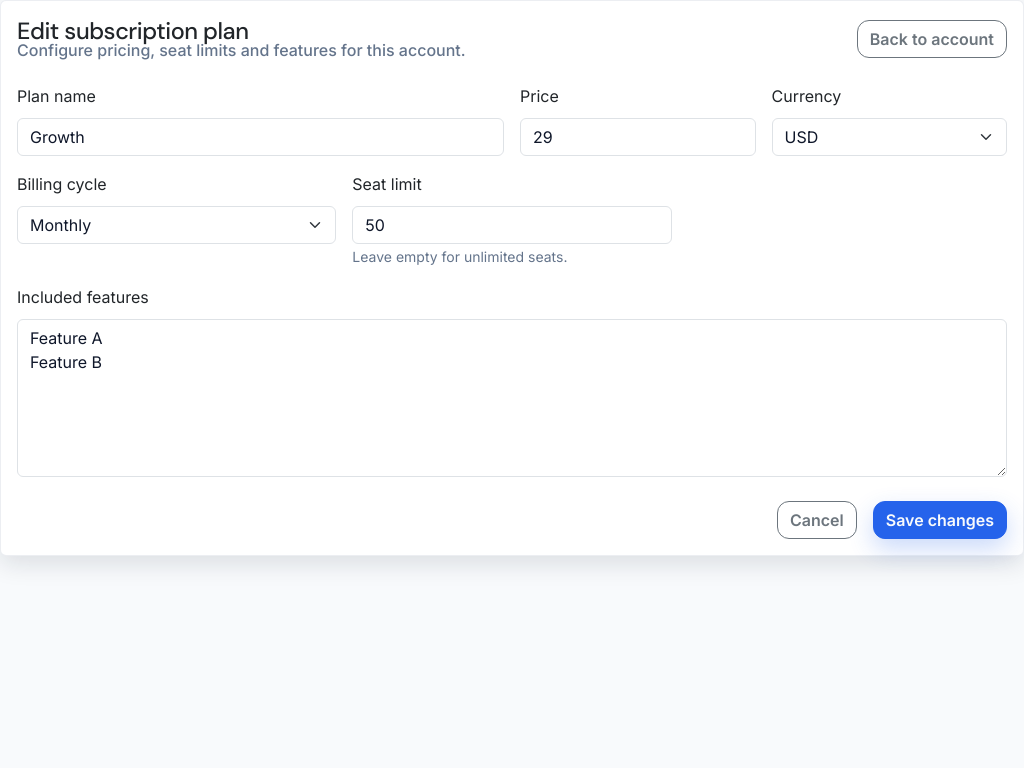
Test: AdminPlanEditorPage › loads plan details and submits updates
Expected: the field showing "Growth" is shown, [17,118,504,156]
Replace the text in the number field labelled "Price" with "49" at (638, 137), box [520,118,756,156]
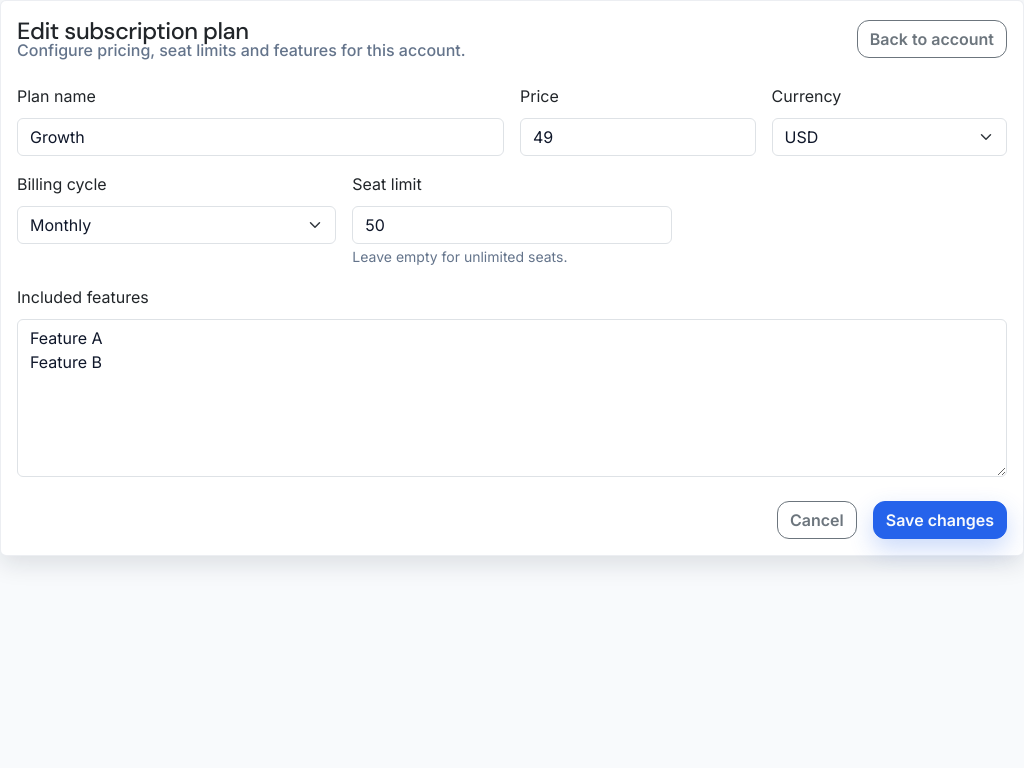
Select "Yearly" in the dropdown labelled "Billing cycle" at (177, 224), box [17,206,336,244]
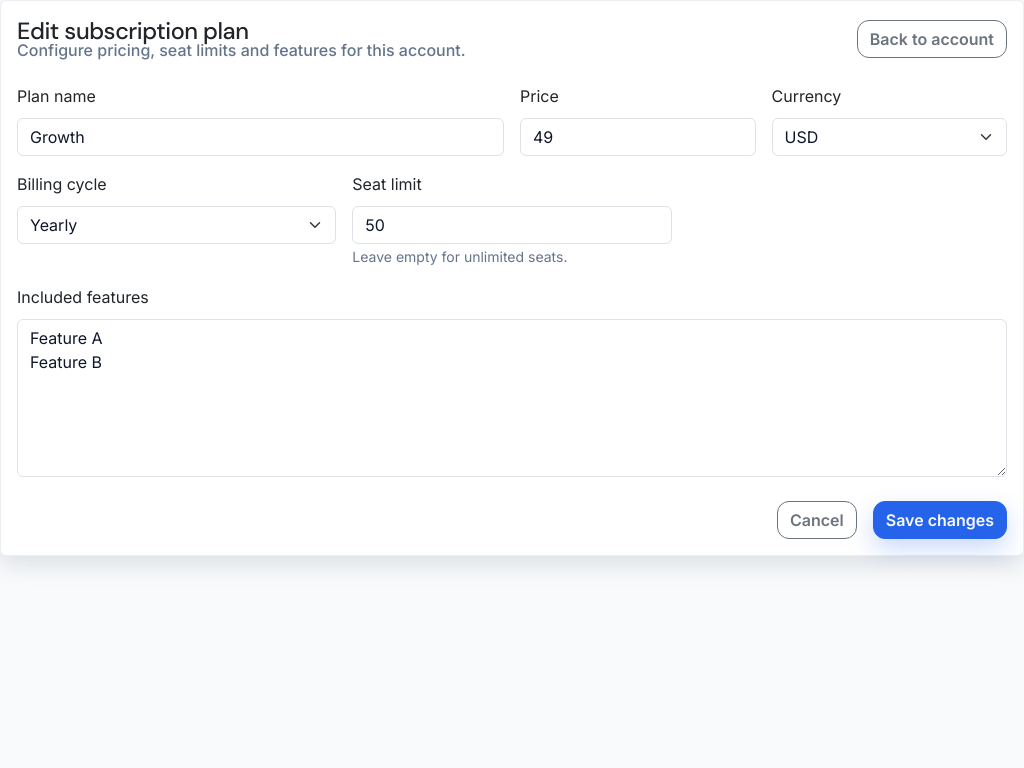
Submit the form with test id "admin-plan-form", box [17,68,1007,539]
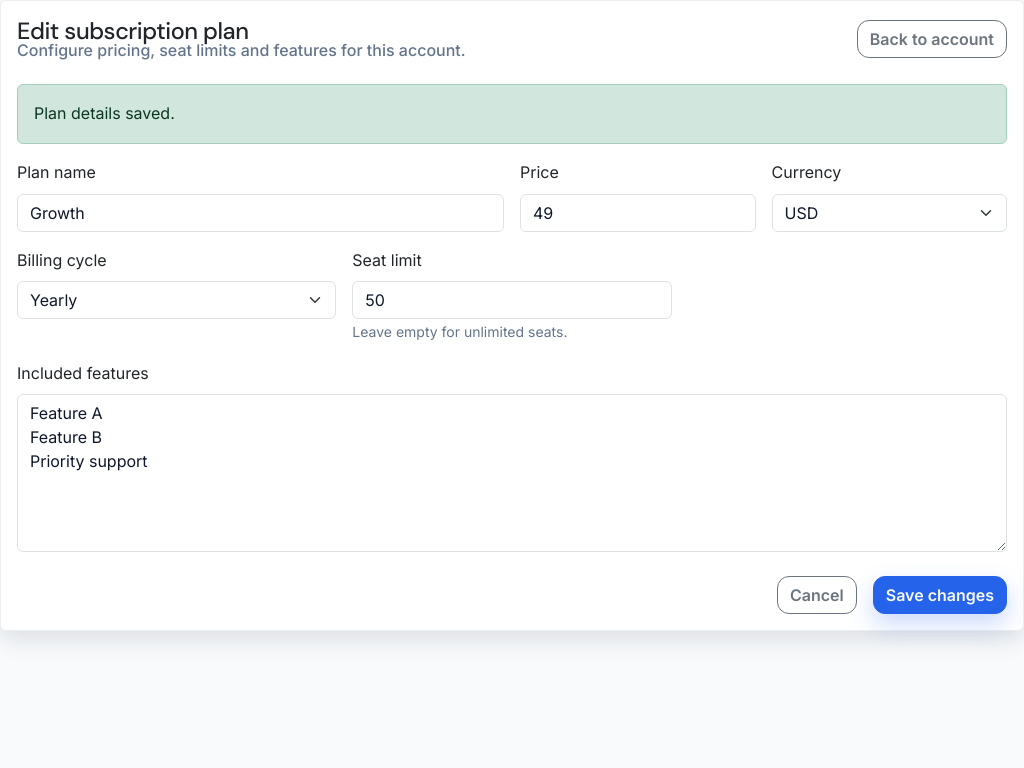
Expected: the message "Plan details saved." is shown, [17,84,1007,144]
